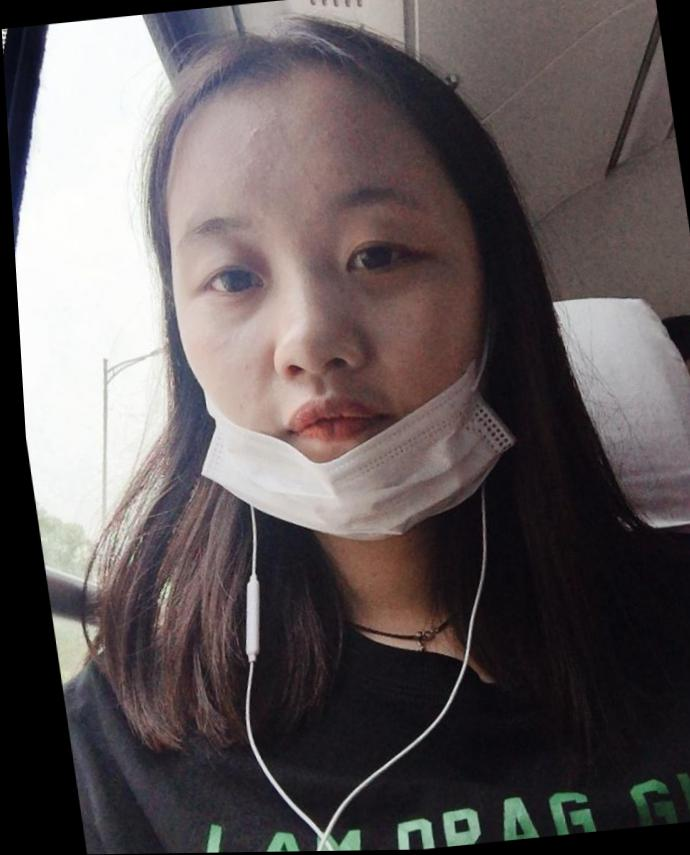WRONG: (165, 156, 513, 545)
